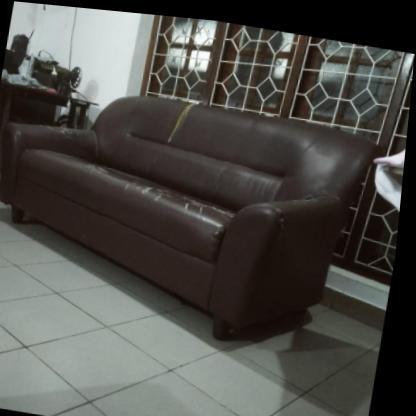Sofa: (0, 70, 378, 352)
